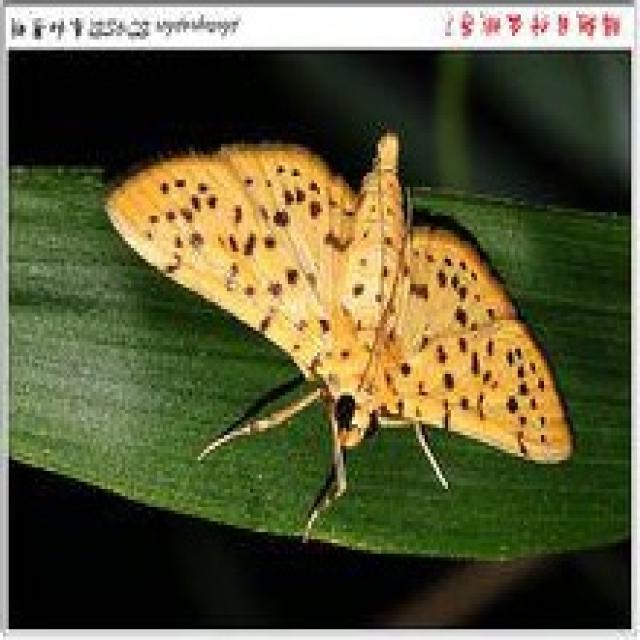peach borer: (102, 127, 576, 515)
